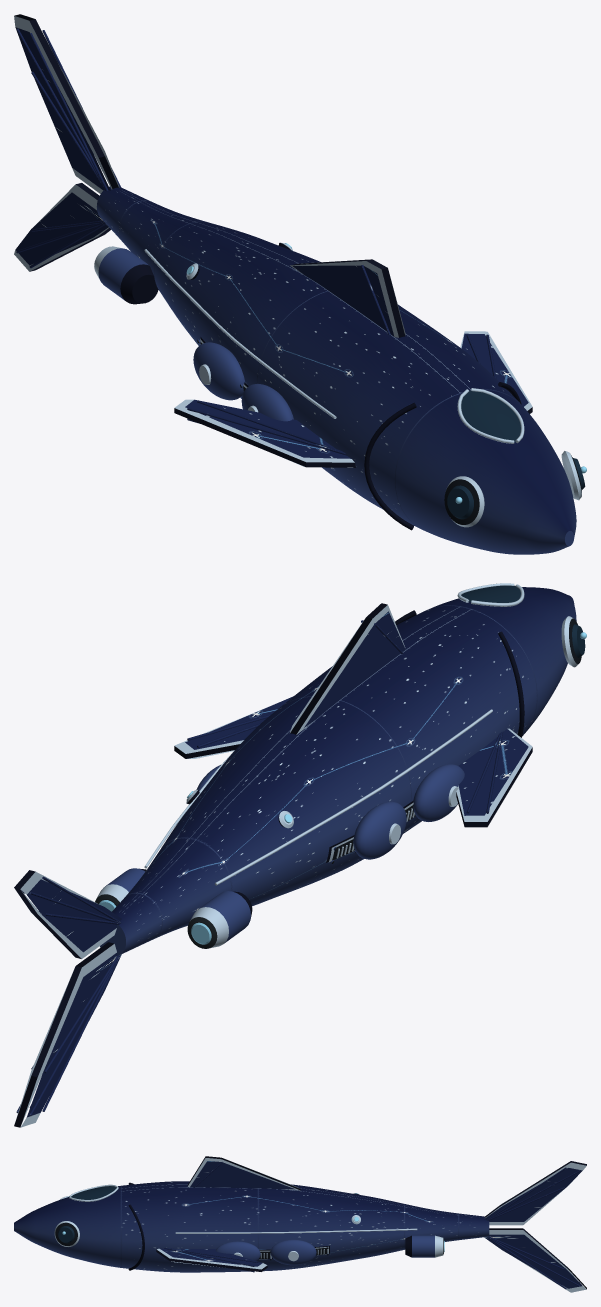
3 renders of one model, top to bottom at view 1: azimuth 30°, elevation 25°; view 2: azimuth 150°, elevation 25°; view 3: azimuth 270°, elevation 25°, orthographic. The views are drawn at different scales.
Parts seen in each view (by area): view 1: pilotfish_hull; view 2: pilotfish_hull; view 3: pilotfish_hull.
Boxes of the visible parts, box(x1,y1,x2,y2) form: pilotfish_hull: box(14, 14, 586, 554); pilotfish_hull: box(14, 583, 586, 1127); pilotfish_hull: box(14, 1156, 586, 1292).
Size of the model in its own units: 5.24 by 4.16 by 16.
Materials: 1 (1 with a texture image).
